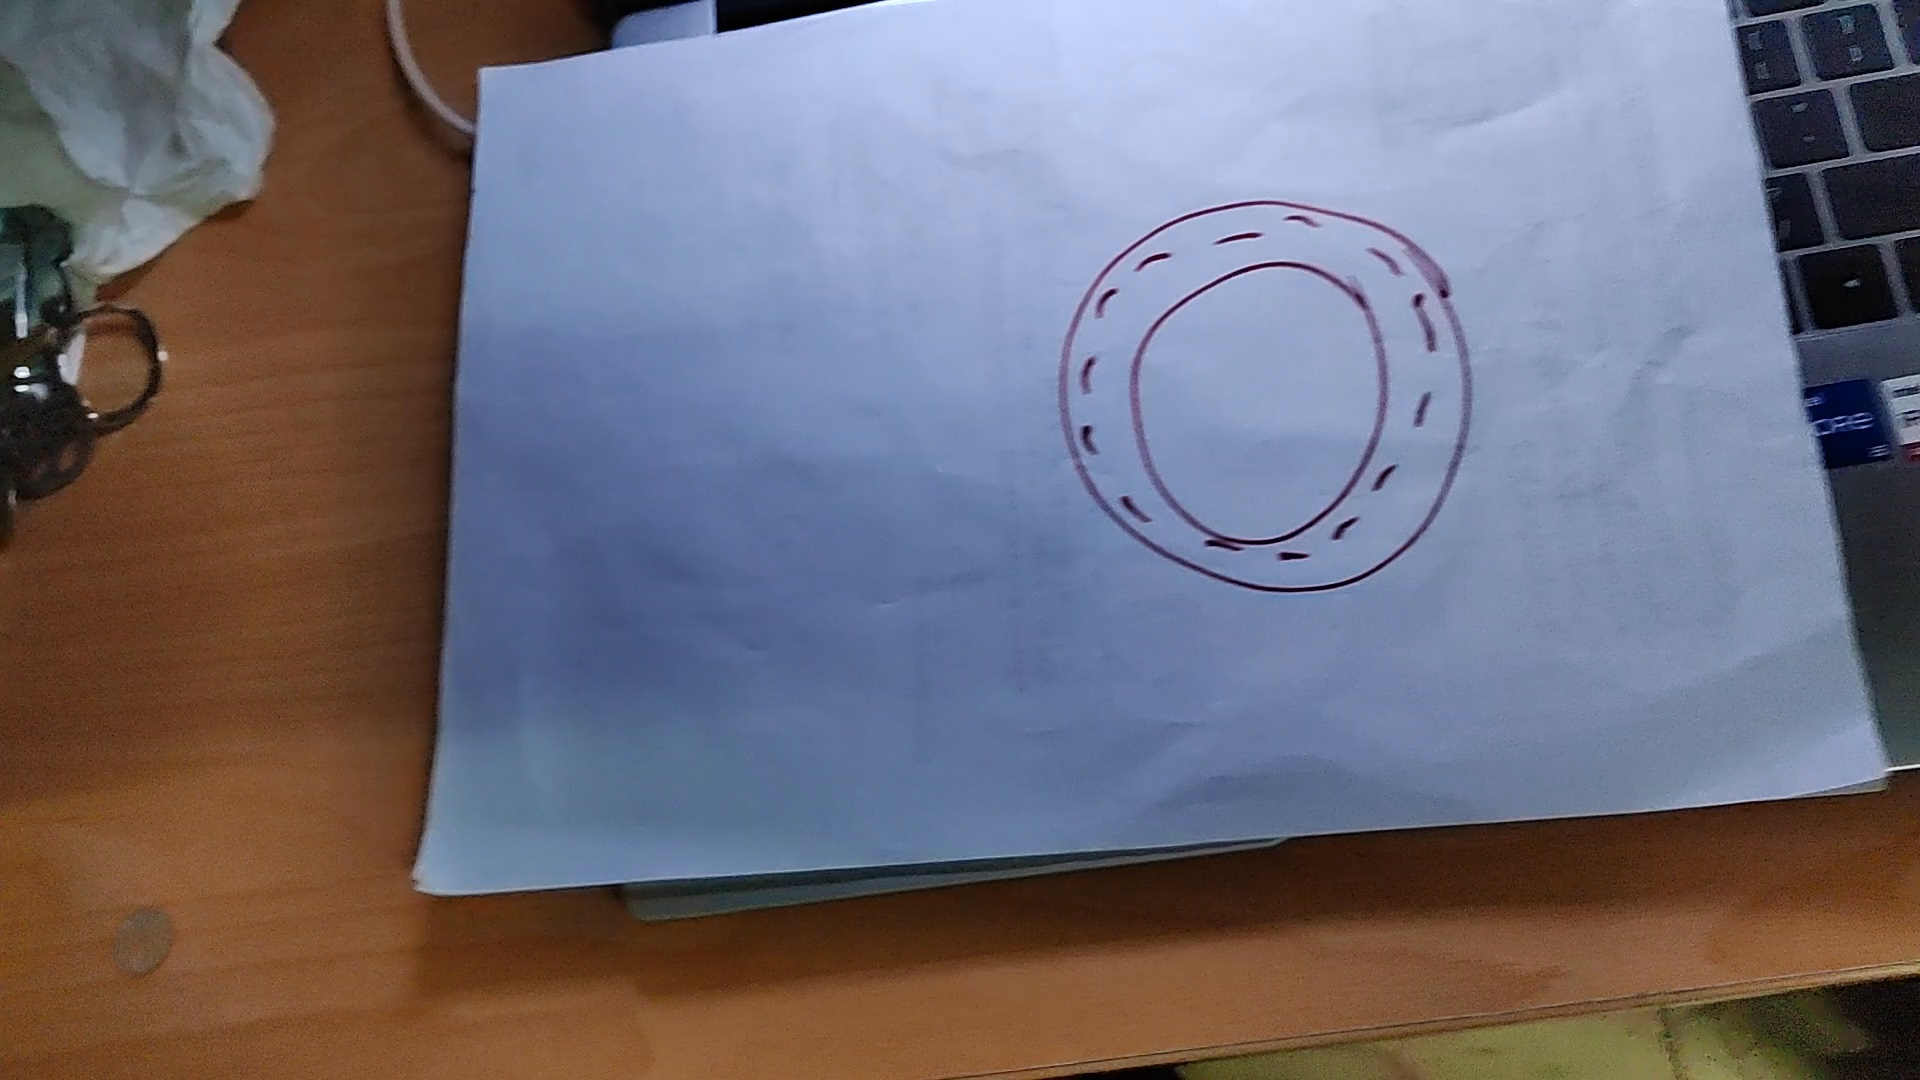circle: (1063, 200, 1473, 593)
